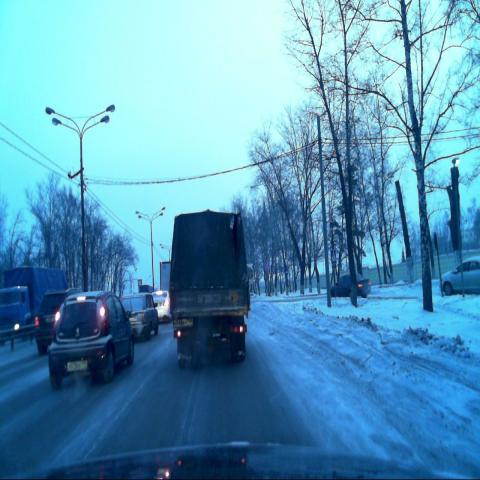5_19_1: (330, 250, 337, 263)
